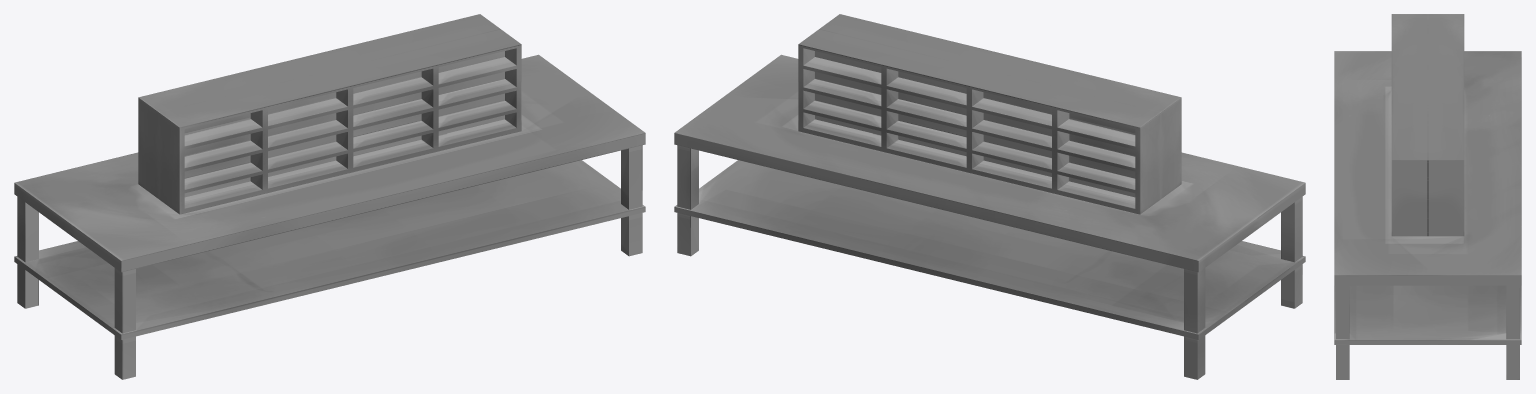
File: KitchenDesk_GEO.fbx
The picture shows the model from 3 angles, left to right: view 1: azimuth 30°, elevation 25°; view 2: azimuth 150°, elevation 25°; view 3: azimuth 270°, elevation 25°; orthographic projection. The views are drawn at different scales.
Parts seen in each view (by area): view 1: Cube.001; view 2: Cube.001; view 3: Cube.001.
Boxes of the visible parts, x1=… form: Cube.001: x1=14, y1=14, x2=645, y2=379; Cube.001: x1=674, y1=14, x2=1305, y2=379; Cube.001: x1=1334, y1=14, x2=1521, y2=379.
Size of the model in its own units: 567 by 214 by 200.
Materials: 1 (1 with a texture image).
